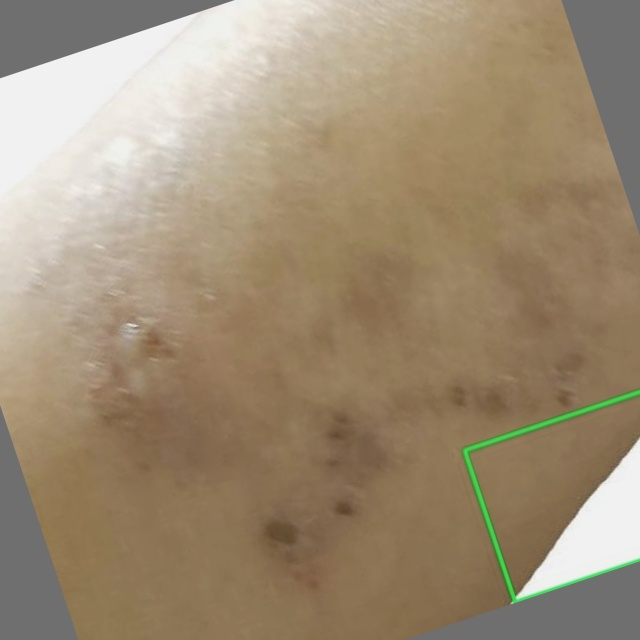Scabies: (464, 391, 639, 601)
